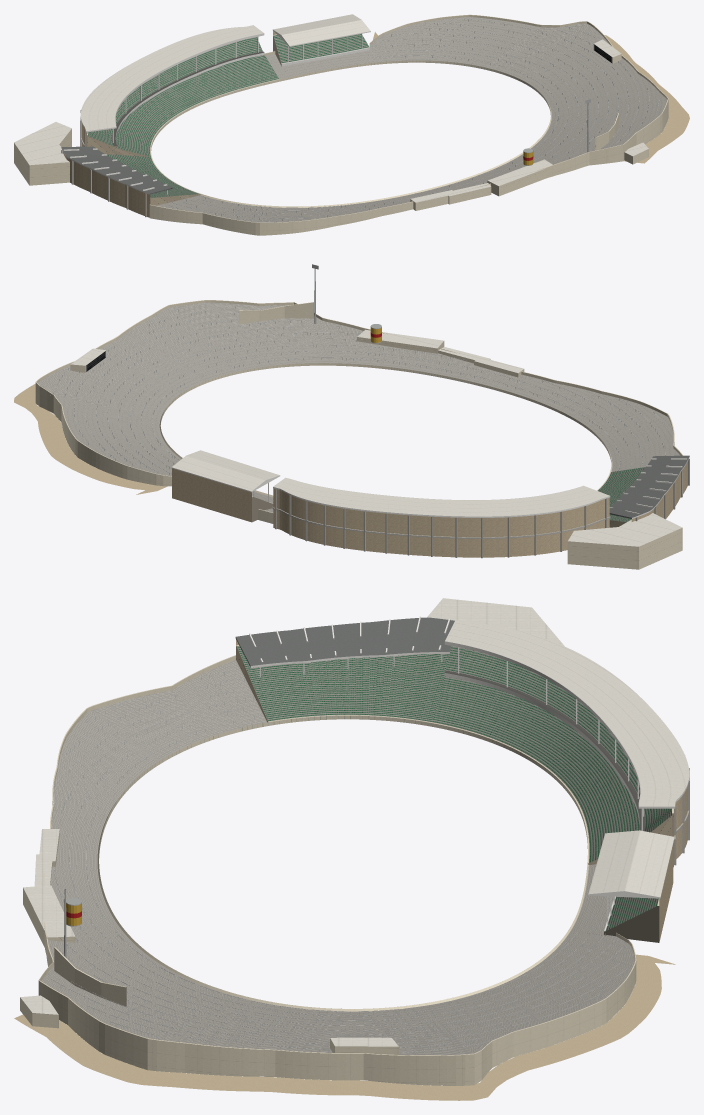
File: subA2.glb
3 renders of one model, top to bottom at view 1: azimuth 30°, elevation 25°; view 2: azimuth 150°, elevation 25°; view 3: azimuth 270°, elevation 25°, orthographic. The views are drawn at different scales.
Visible parts, largest first — view 1: subiacoA; view 2: subiacoA; view 3: subiacoA.
Part boxes in pixels (x1,y1,x2,y2): subiacoA: [14, 14, 689, 235]; subiacoA: [14, 264, 689, 569]; subiacoA: [14, 598, 689, 1100].
Size of the model in its own units: 300 by 30.35 by 183.
15 materials, 15 textured.
